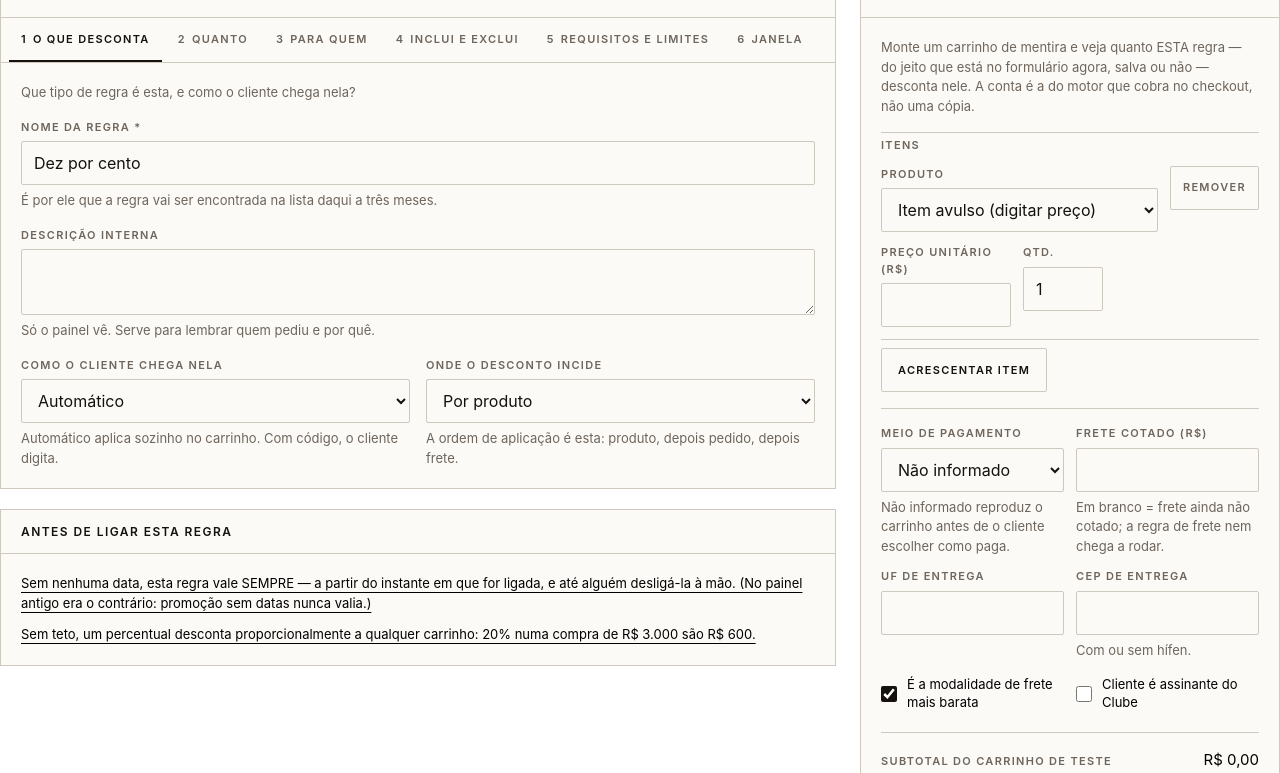
Test: o simulador chama o motor, e não calcula nada por conta própria › a frase que volta é a do motor, com o carrinho dentro
Select "Clássico 250g · CAN-CLA-250" in the dropdown labelled "Produto": (1019,210) [881, 188, 1158, 232]
(page scrolled)
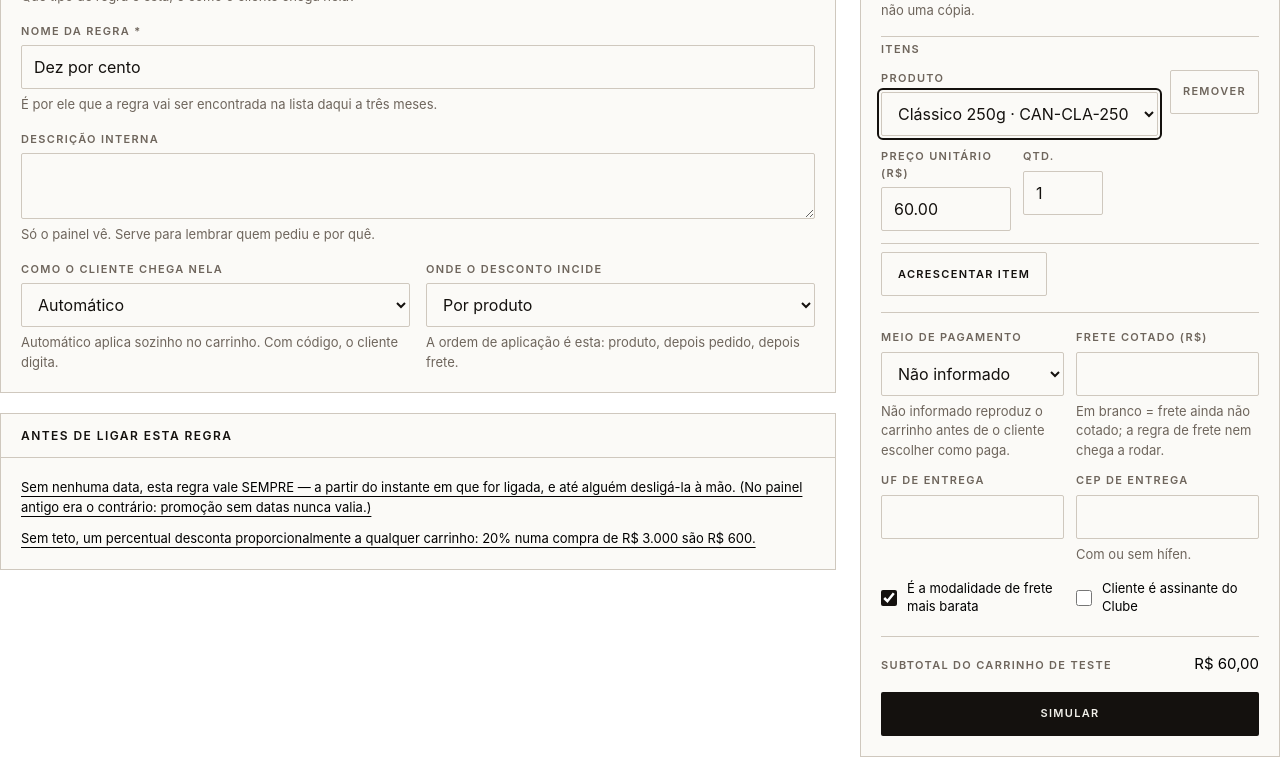
Click the button "Simular": (1070,714) [881, 692, 1259, 736]
(page scrolled)
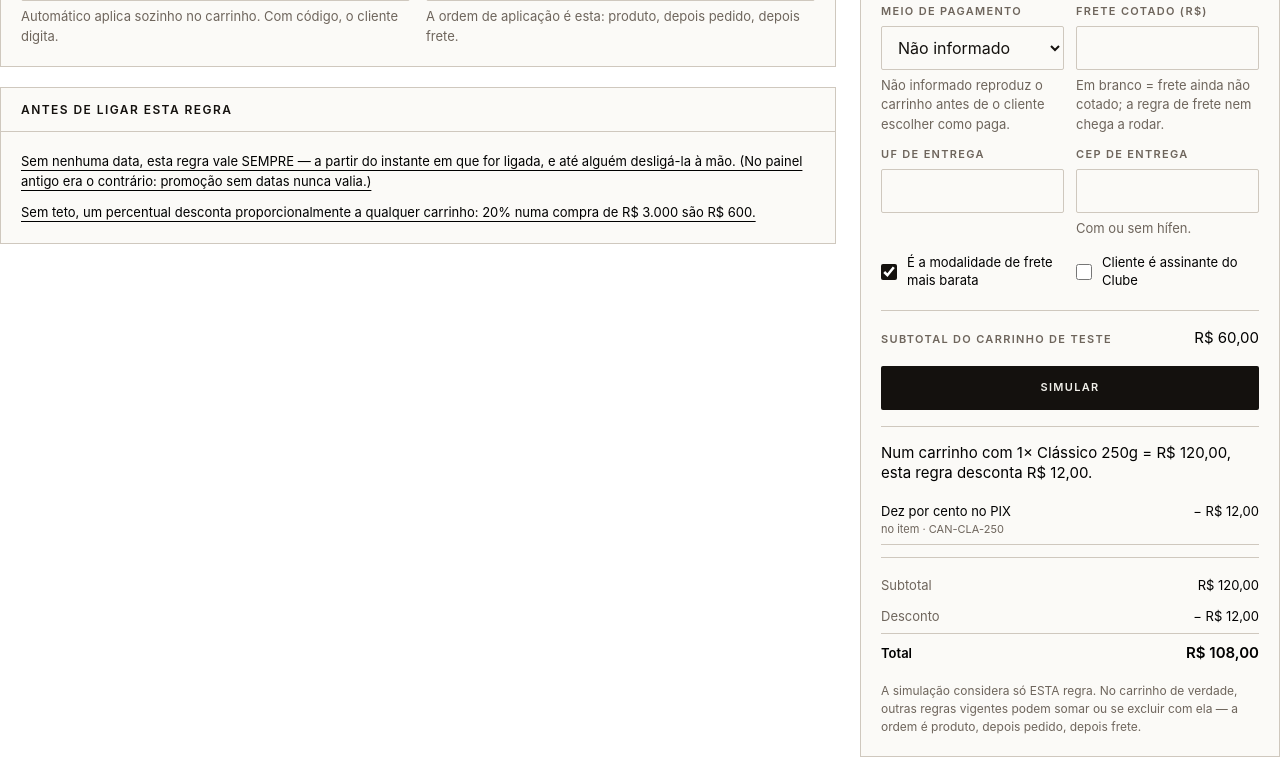
Now the text "esta regra desconta" is shown, box [881, 442, 1231, 482]
